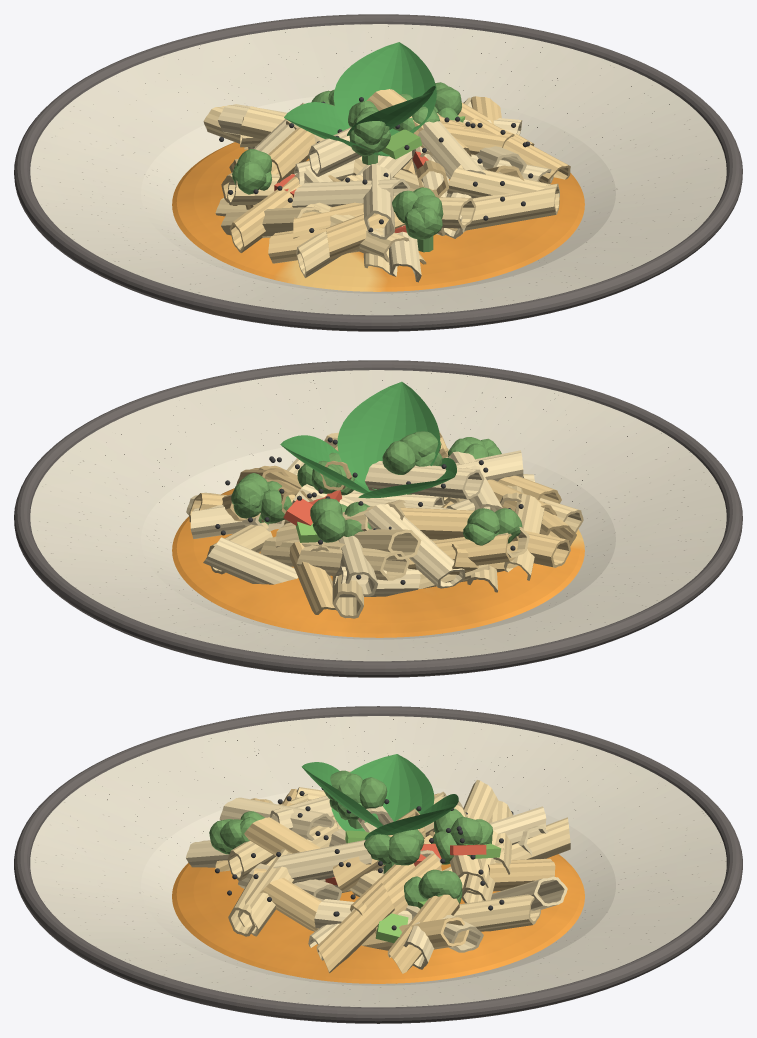
Rendered from alfredo_pasta.glb.
The picture shows the model from 3 angles, top to bottom: view 1: azimuth 30°, elevation 25°; view 2: azimuth 150°, elevation 25°; view 3: azimuth 270°, elevation 25°; orthographic projection.
Visible parts, largest first — view 1: alfredo_pasta__bowl_1, alfredo_pasta__bowl_rim_2, alfredo_pasta__cream_sauce_3, alfredo_pasta__penne_5, alfredo_pasta__penne_4, alfredo_pasta__penne_6, alfredo_pasta__basil_10, alfredo_pasta__broccoli_7, alfredo_pasta__black_pepper_11, alfredo_pasta__green_pepper_9; view 2: alfredo_pasta__bowl_1, alfredo_pasta__bowl_rim_2, alfredo_pasta__cream_sauce_3, alfredo_pasta__penne_5, alfredo_pasta__penne_6, alfredo_pasta__penne_4, alfredo_pasta__broccoli_7, alfredo_pasta__basil_10, alfredo_pasta__black_pepper_11, alfredo_pasta__red_pepper_8; view 3: alfredo_pasta__bowl_1, alfredo_pasta__bowl_rim_2, alfredo_pasta__cream_sauce_3, alfredo_pasta__penne_6, alfredo_pasta__penne_5, alfredo_pasta__penne_4, alfredo_pasta__broccoli_7, alfredo_pasta__basil_10, alfredo_pasta__green_pepper_9, alfredo_pasta__black_pepper_11, alfredo_pasta__red_pepper_8.
Boxes of the visible parts, box(x1,y1,x2,y2) form: alfredo_pasta__bowl_1: box(30, 24, 726, 315); alfredo_pasta__bowl_rim_2: box(14, 14, 742, 331); alfredo_pasta__cream_sauce_3: box(172, 142, 584, 291); alfredo_pasta__penne_5: box(218, 97, 553, 282); alfredo_pasta__penne_4: box(203, 106, 559, 277); alfredo_pasta__penne_6: box(221, 89, 570, 266); alfredo_pasta__basil_10: box(284, 42, 436, 156); alfredo_pasta__broccoli_7: box(232, 82, 462, 252); alfredo_pasta__black_pepper_11: box(219, 97, 533, 232); alfredo_pasta__green_pepper_9: box(308, 116, 465, 159); alfredo_pasta__bowl_1: box(30, 370, 726, 661); alfredo_pasta__bowl_rim_2: box(14, 360, 742, 677); alfredo_pasta__cream_sauce_3: box(172, 488, 584, 637); alfredo_pasta__penne_5: box(186, 450, 534, 597); alfredo_pasta__penne_6: box(189, 432, 576, 614); alfredo_pasta__penne_4: box(207, 432, 583, 618); alfredo_pasta__broccoli_7: box(231, 431, 522, 545); alfredo_pasta__basil_10: box(280, 381, 456, 498); alfredo_pasta__black_pepper_11: box(215, 437, 544, 584); alfredo_pasta__red_pepper_8: box(283, 490, 341, 525); alfredo_pasta__bowl_1: box(30, 716, 726, 1007); alfredo_pasta__bowl_rim_2: box(14, 706, 742, 1023); alfredo_pasta__cream_sauce_3: box(172, 854, 584, 983); alfredo_pasta__penne_6: box(215, 789, 555, 973); alfredo_pasta__penne_5: box(186, 771, 567, 969); alfredo_pasta__penne_4: box(227, 780, 570, 936); alfredo_pasta__broccoli_7: box(209, 770, 492, 906); alfredo_pasta__basil_10: box(301, 754, 458, 839); alfredo_pasta__green_pepper_9: box(345, 830, 501, 943); alfredo_pasta__black_pepper_11: box(215, 788, 513, 930); alfredo_pasta__red_pepper_8: box(325, 843, 486, 885).
Size of the model in its own units: 0.307 by 0.0845 by 0.3068.
11 materials, 2 textured.
